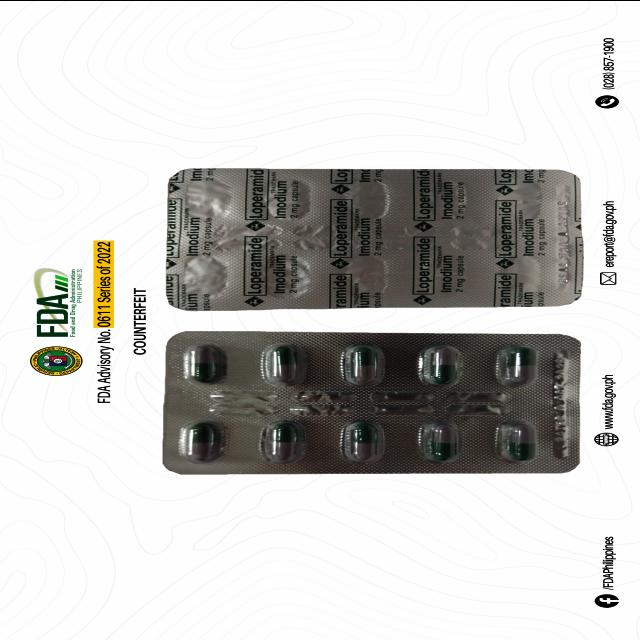counterfeit: (155, 332, 589, 476), (162, 165, 584, 313)
